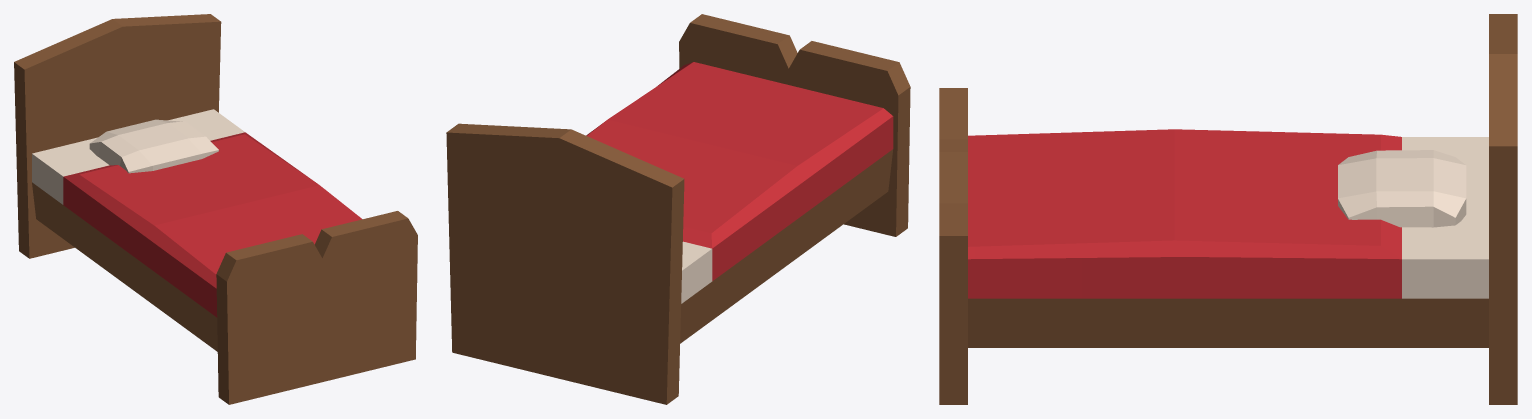
The model's file is fantasy_bed-wood.fbx.
3 renders of one model, left to right at view 1: azimuth 30°, elevation 25°; view 2: azimuth 150°, elevation 25°; view 3: azimuth 270°, elevation 25°, orthographic. The views are drawn at different scales.
Parts seen in each view (by area): view 1: fantasy_bed_wood; view 2: fantasy_bed_wood; view 3: fantasy_bed_wood.
Boxes of the visible parts, box(x1,y1,x2,y2) form: fantasy_bed_wood: box(14, 14, 417, 404); fantasy_bed_wood: box(446, 14, 910, 404); fantasy_bed_wood: box(939, 14, 1517, 404).
Bounding box in the file's own units: 108 × 110 × 200.
